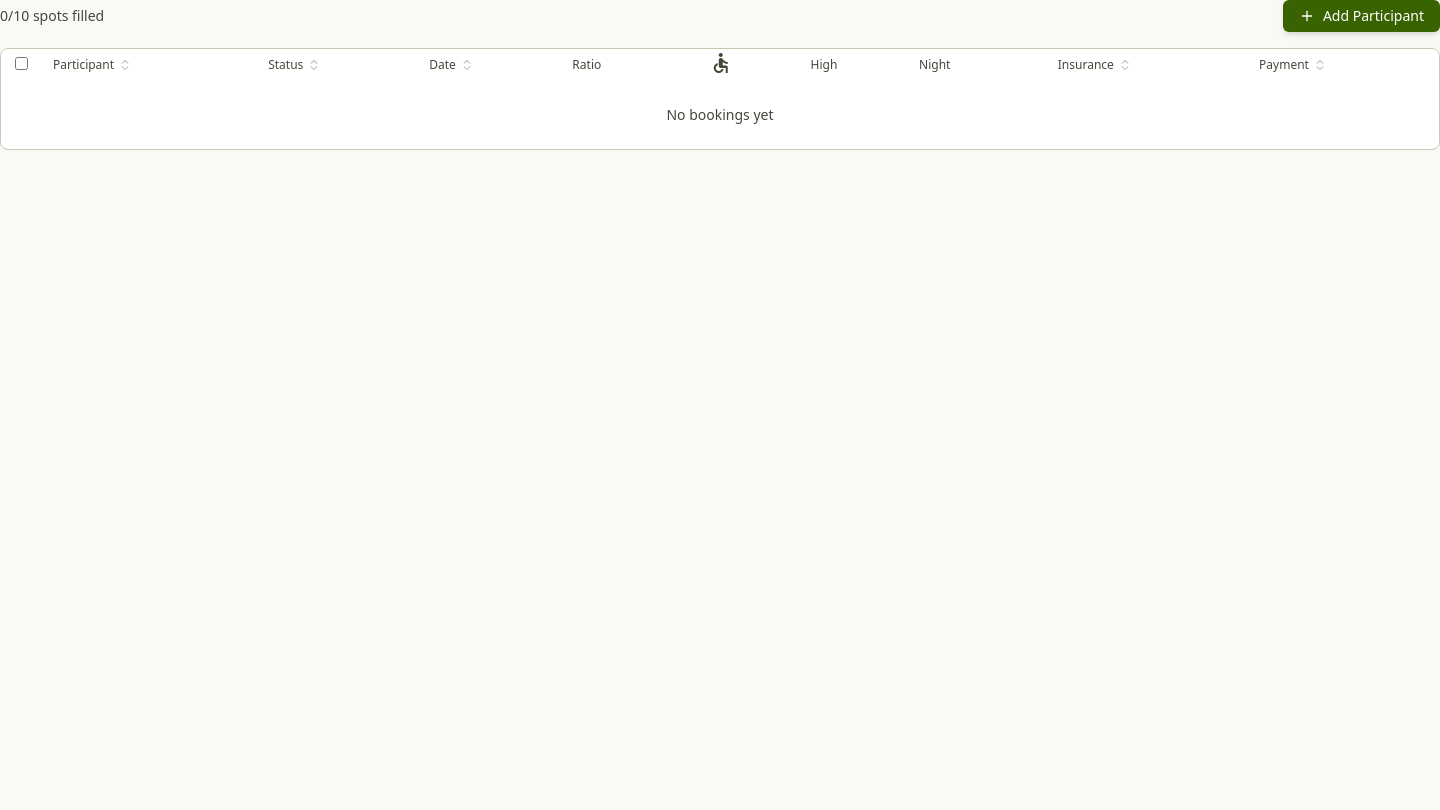
Test: BookingsTab — Add Booking: the server's refusal reaches the user › falls back to the generic line for a network failure with no response
Click the button "Add Participant". click: (1361, 16)
box: [1283, 0, 1439, 32]
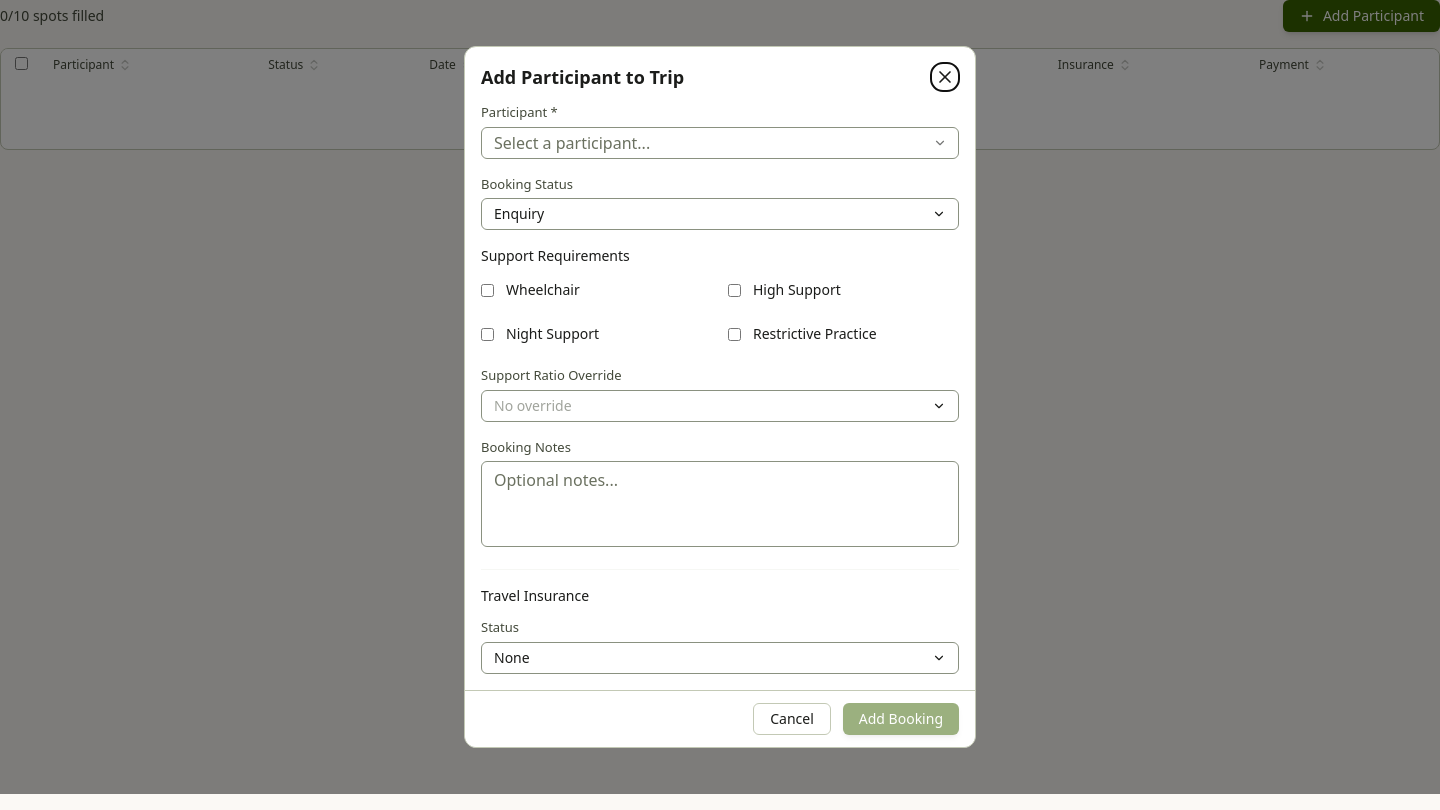
Click the dropdown labelled "Participant *". click: (720, 143)
box: [481, 127, 959, 159]
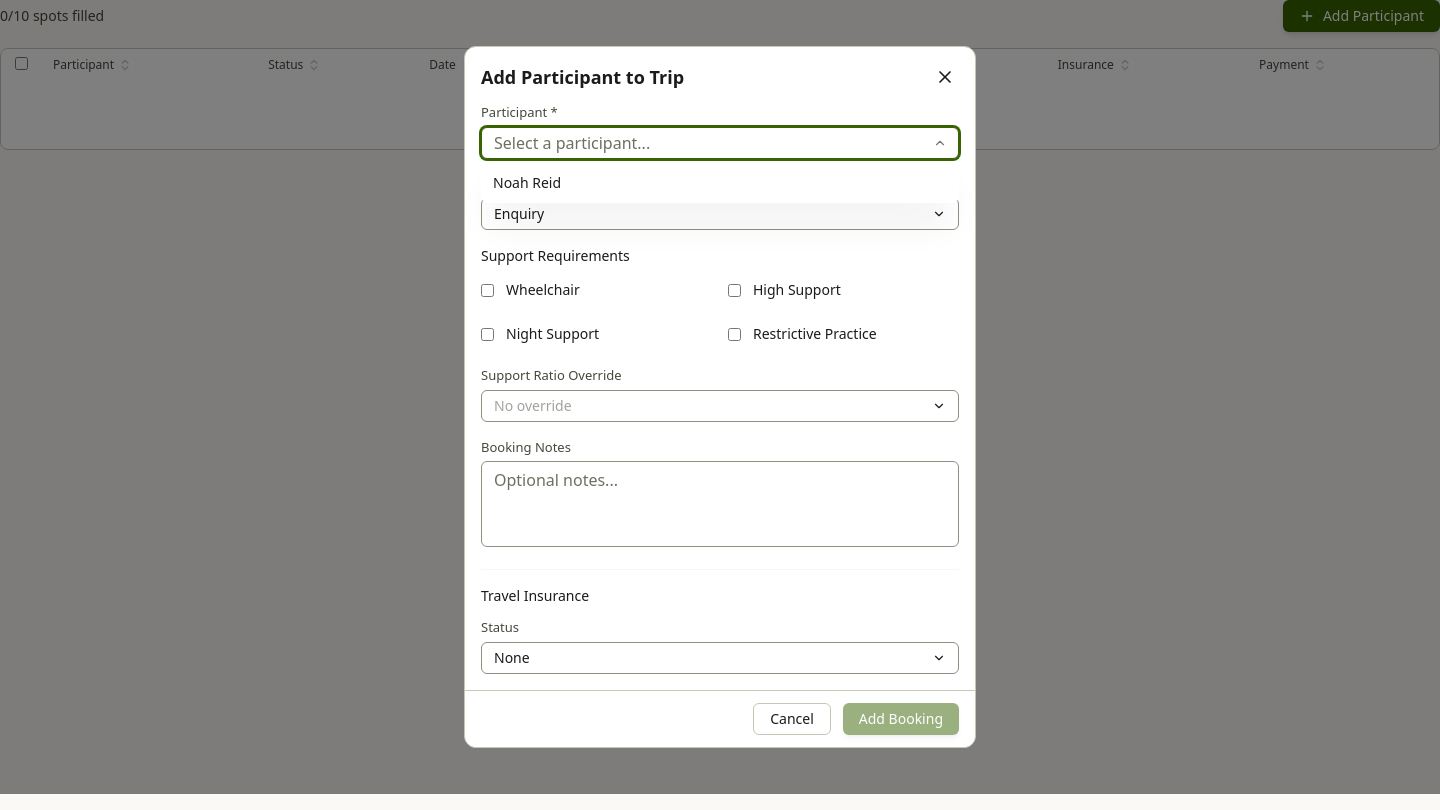
Click the option "Noah Reid". click: (527, 182)
box: [493, 173, 561, 192]
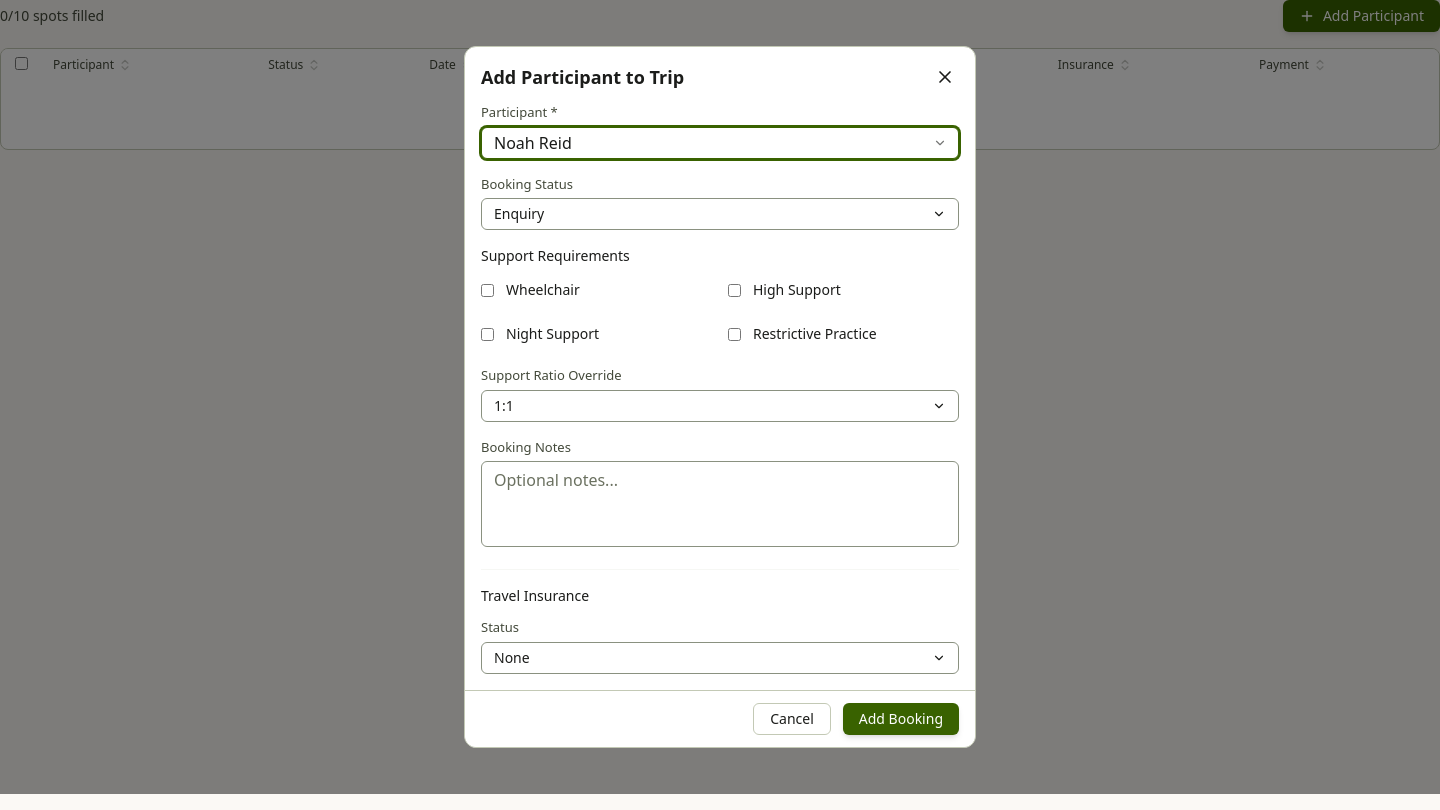
Click the button "Add Booking". click: (901, 719)
box: [843, 703, 959, 735]
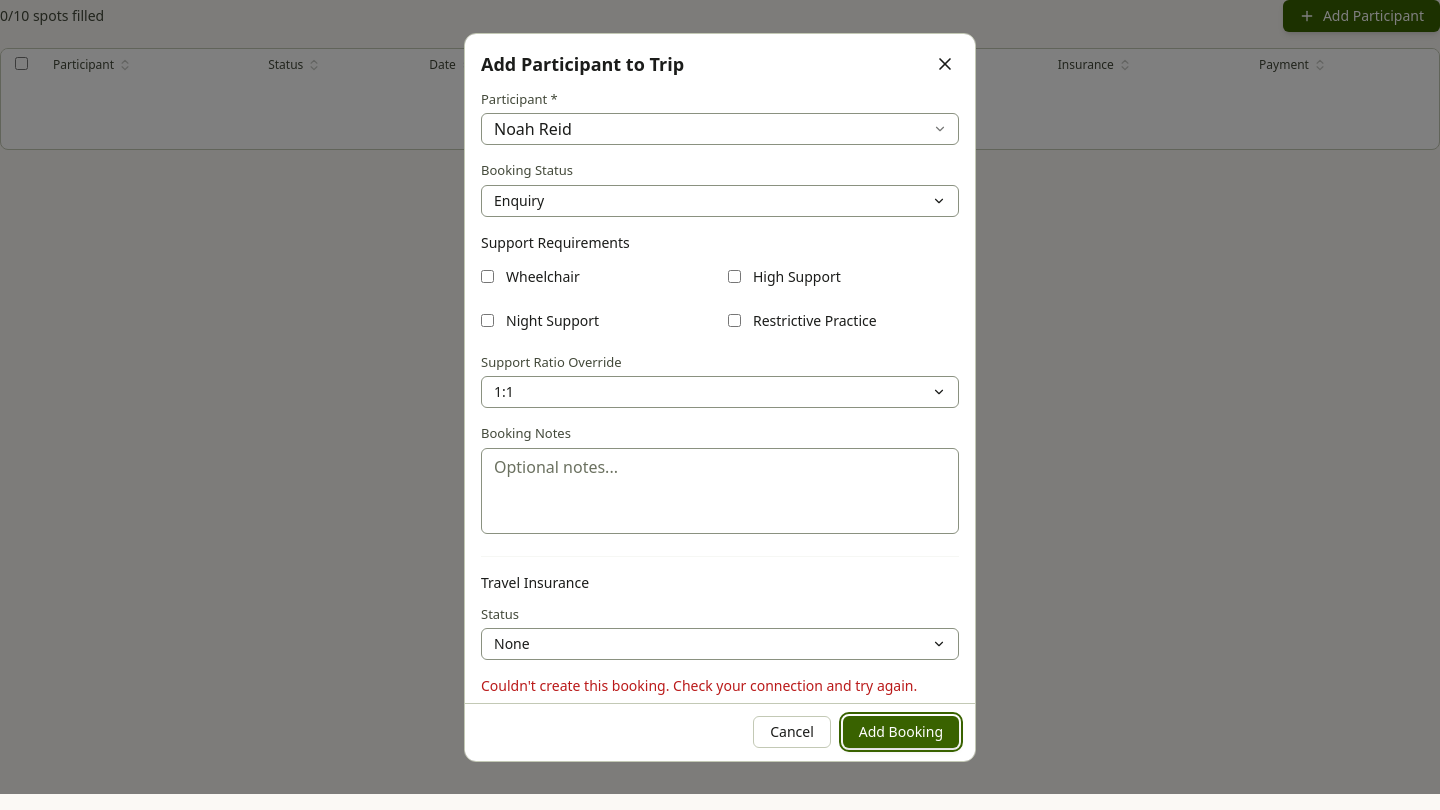
Expected: the text "Couldn't create this booking. Check your connection and try again." is shown, [481, 676, 959, 696]
